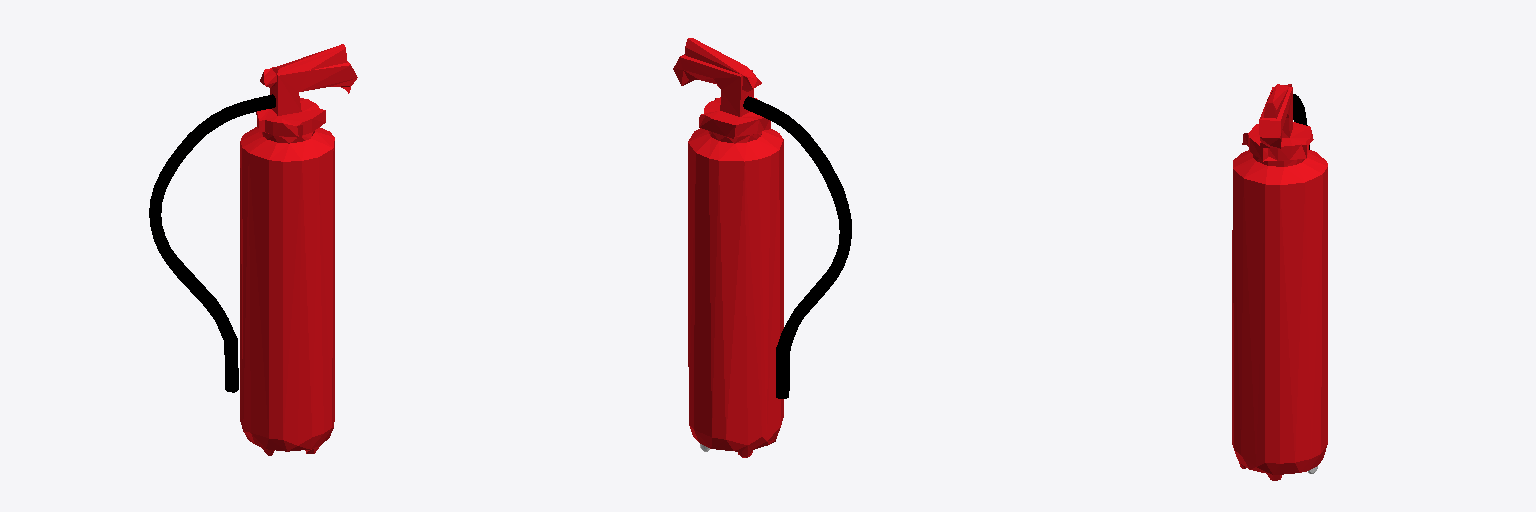
The model's file is blusser.obj.
3 renders of one model, left to right at view 1: azimuth 30°, elevation 25°; view 2: azimuth 150°, elevation 25°; view 3: azimuth 270°, elevation 25°, orthographic.
Parts seen in each view (by area): view 1: Object.3, Object.2; view 2: Object.3, Object.2; view 3: Object.3.
Boxes of the visible parts, box(x1,y1,x2,y2) form: Object.3: box(240, 44, 357, 455); Object.2: box(149, 94, 275, 392); Object.3: box(673, 38, 783, 457); Object.2: box(743, 96, 851, 398); Object.3: box(1232, 84, 1327, 480).
Bounding box in the file's own units: 69.4 × 136 × 30.48.